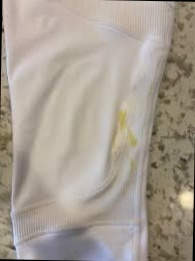mustard: (117, 110, 137, 145), (131, 157, 140, 180)
